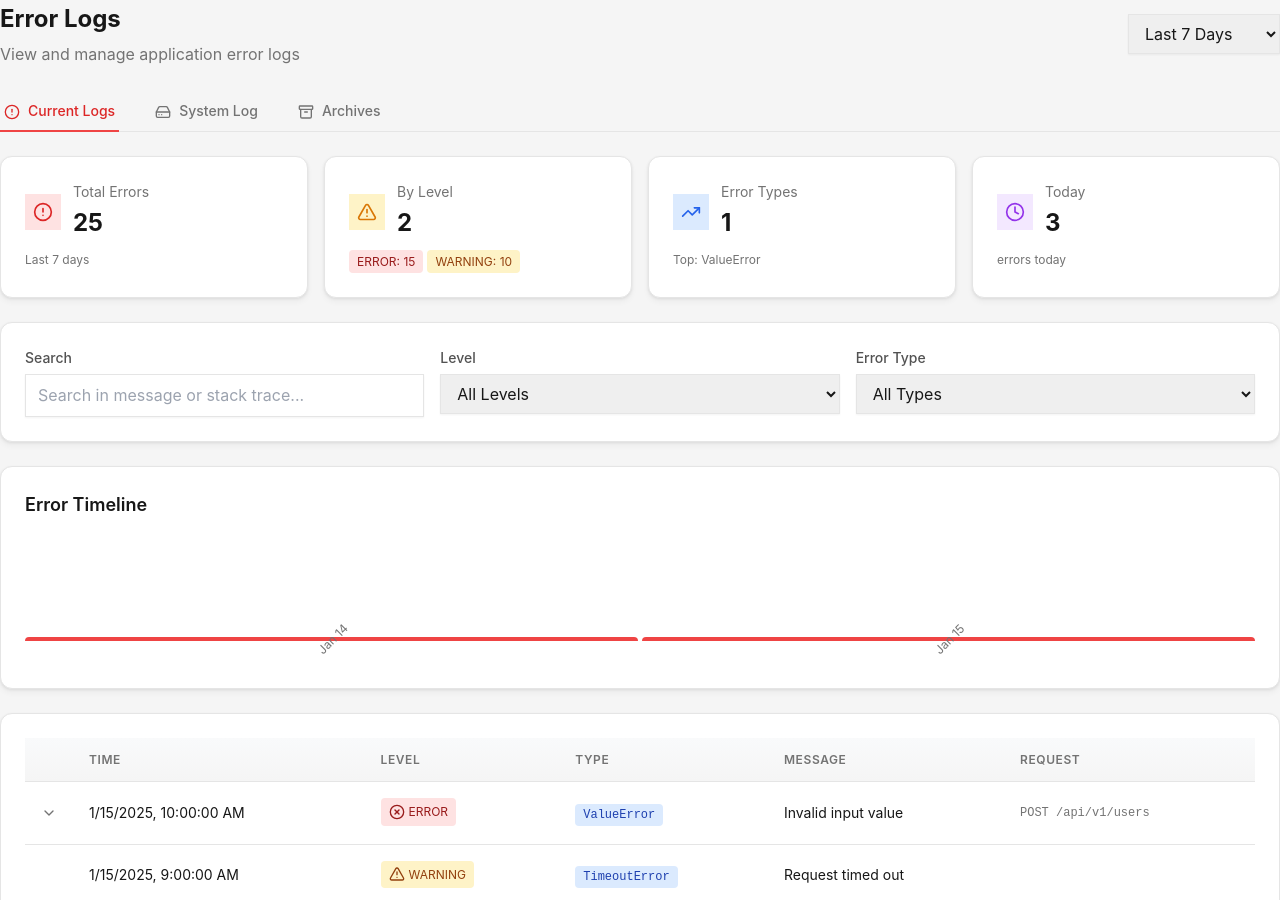
it: ErrorLogsPage › shows archive files with size info
The image size is (1280, 900).
Expected: the button "Current Logs" is shown, top-left (0, 92), bottom-right (119, 132)
Click the button "Archives": point(339, 112) top-left (294, 92), bottom-right (385, 132)
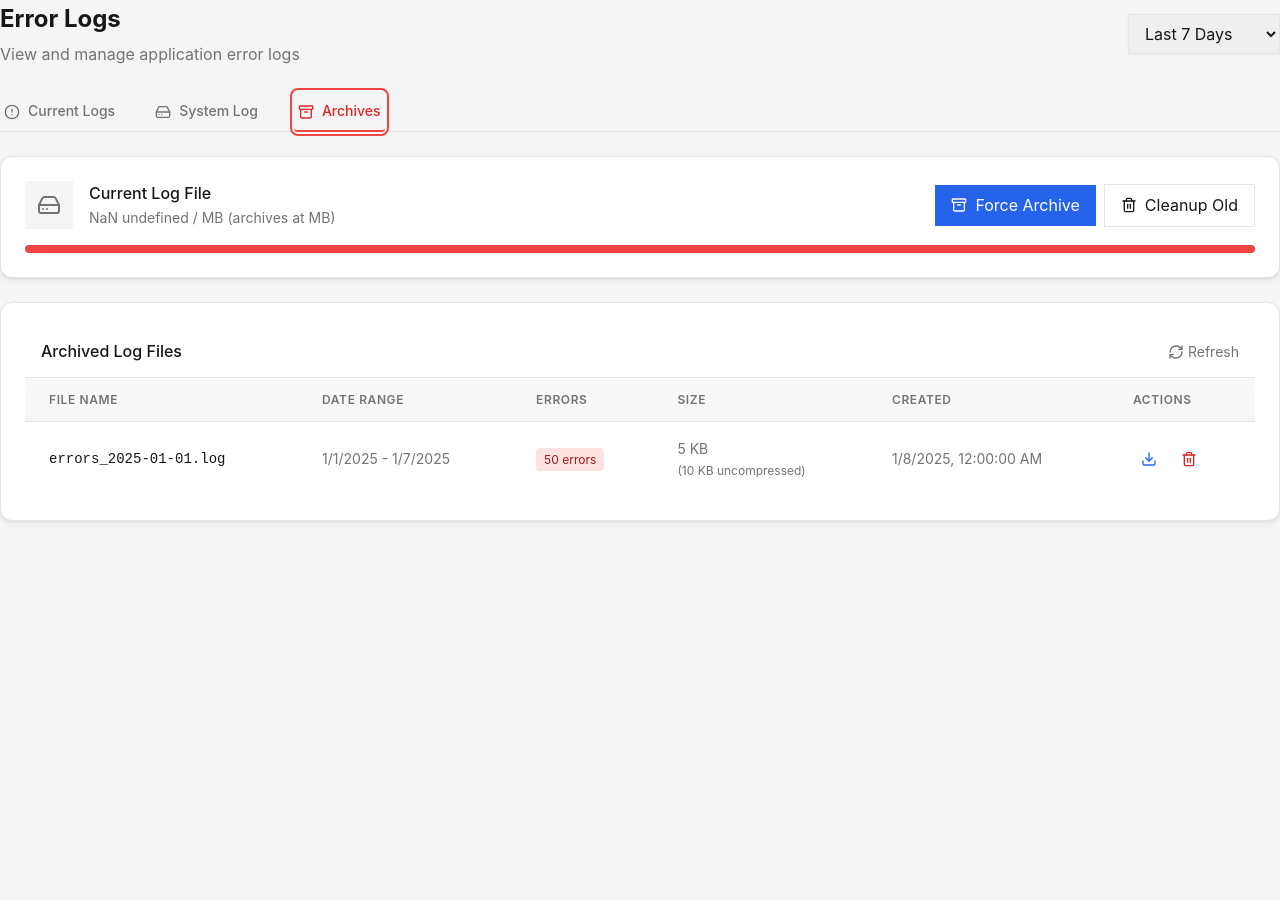
Expected: the text "errors_2025-01-01.log" is shown, top-left (25, 422), bottom-right (298, 496)
Expected: the text "50 errors" is shown, top-left (536, 448), bottom-right (604, 471)
